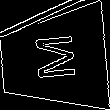M_W: (29, 34, 79, 85)
